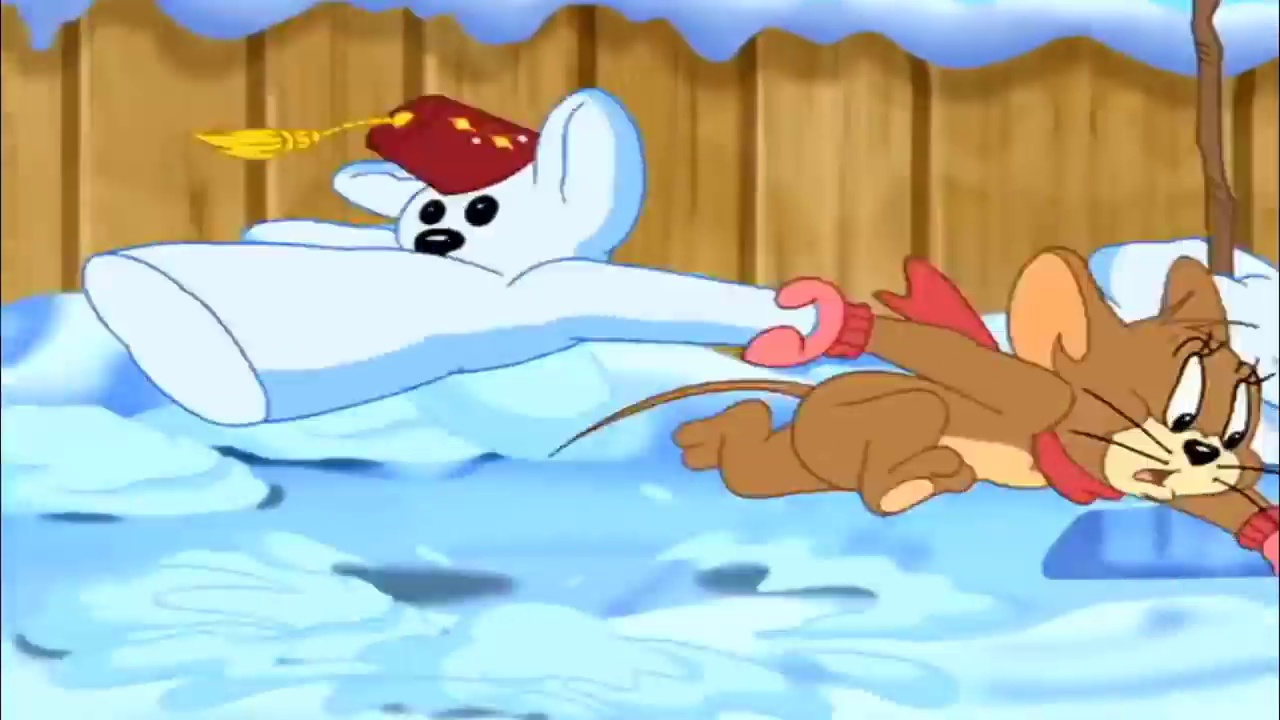face: (1101, 328, 1264, 503)
